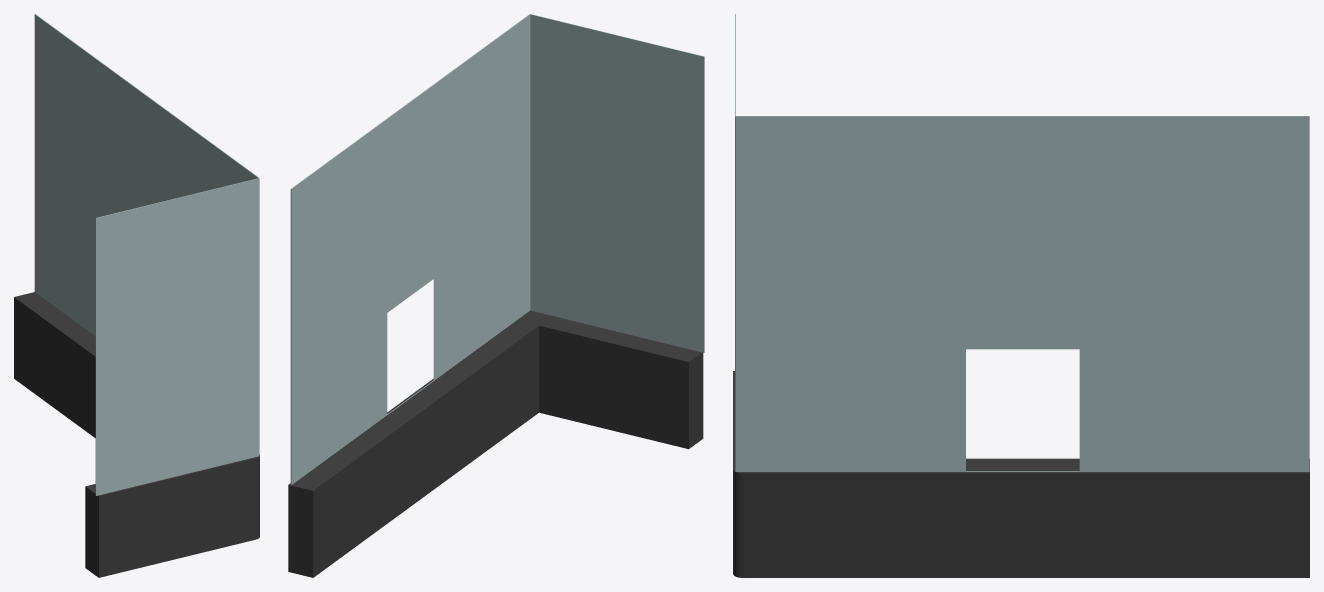
Rendered from PrizeBooth.fbx.
3 views of the same model, side by side, from view 1: azimuth 30°, elevation 25°; view 2: azimuth 150°, elevation 25°; view 3: azimuth 270°, elevation 25° (orthographic). The views are drawn at different scales.
Visible parts, largest first — view 1: Box004, Box003; view 2: Box004, Box003; view 3: Box004, Box003.
Boxes of the visible parts, <box> form: Box004: <box>34,14,259,495</box>; Box003: <box>14,292,259,577</box>; Box004: <box>290,14,704,485</box>; Box003: <box>288,310,703,577</box>; Box004: <box>735,14,1309,471</box>; Box003: <box>733,371,1309,577</box>.
Size of the model in its own units: 213 by 440 by 500.
